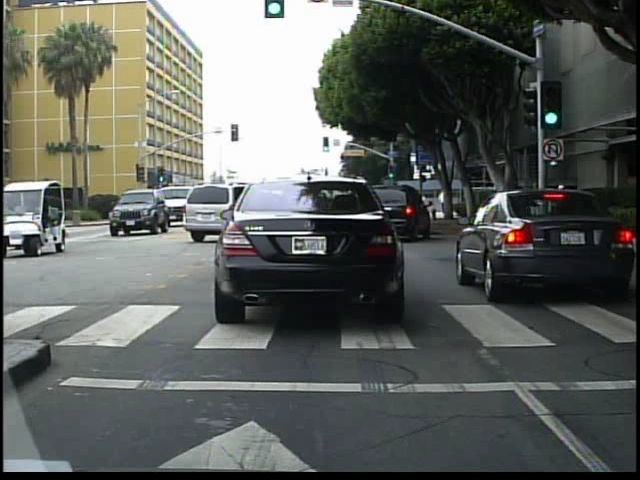person: (534, 174, 554, 231), (434, 186, 448, 217)
